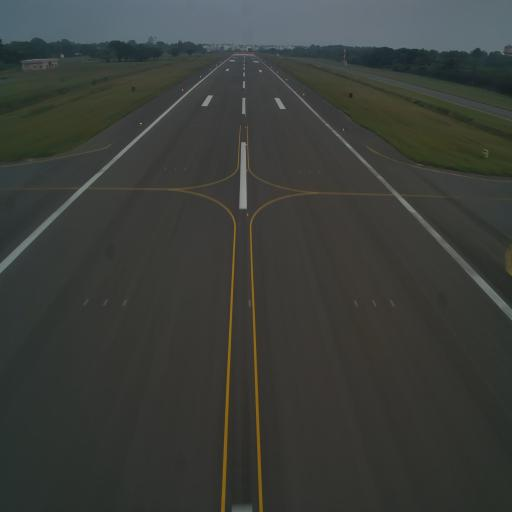off: (101, 295, 112, 312), (386, 296, 398, 310), (370, 296, 380, 311), (81, 294, 90, 310), (352, 294, 360, 312), (120, 297, 129, 310), (182, 165, 189, 175), (173, 165, 179, 175), (297, 167, 304, 175), (163, 164, 169, 173), (307, 166, 311, 176), (316, 168, 320, 176)
on: (246, 297, 253, 310), (244, 207, 250, 221), (243, 168, 248, 176), (243, 140, 248, 148)
